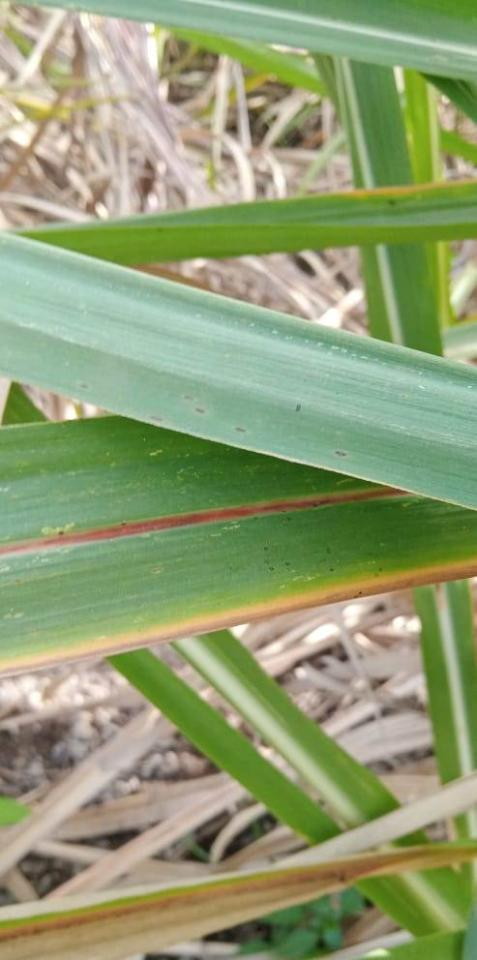RedRot: (0, 486, 411, 558)
